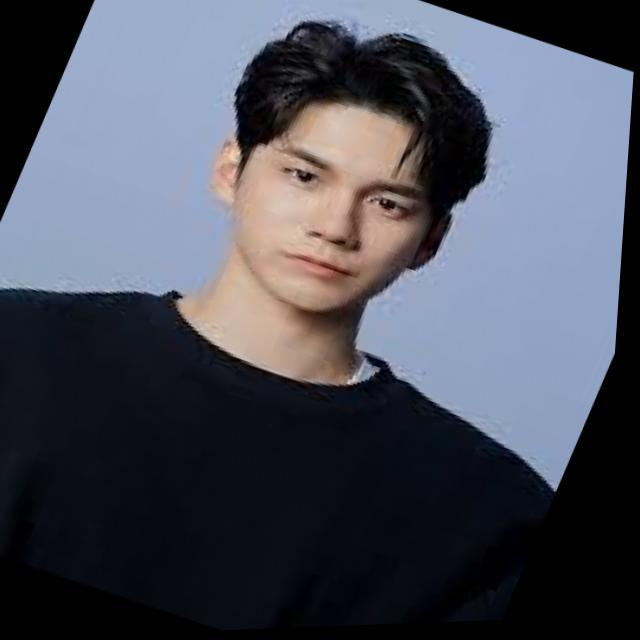Nonhelmet: (204, 16, 497, 319)
